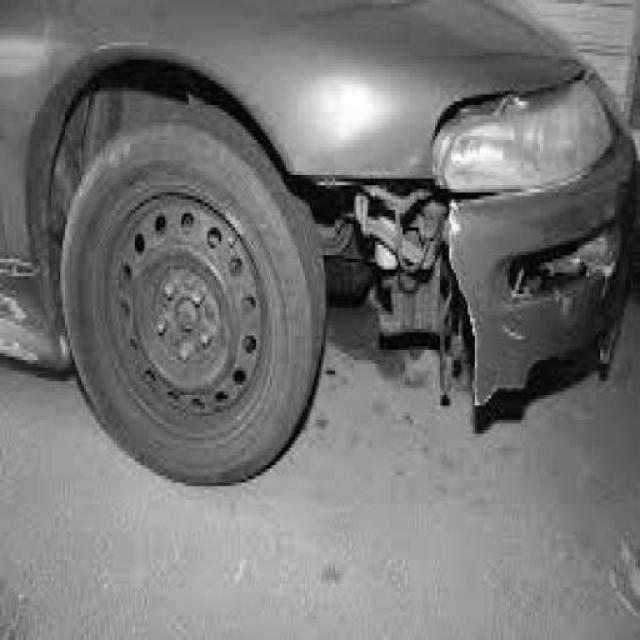missing: (293, 172, 479, 404)
scratch: (0, 248, 43, 364), (585, 256, 623, 292), (553, 285, 573, 327), (499, 327, 536, 345)
